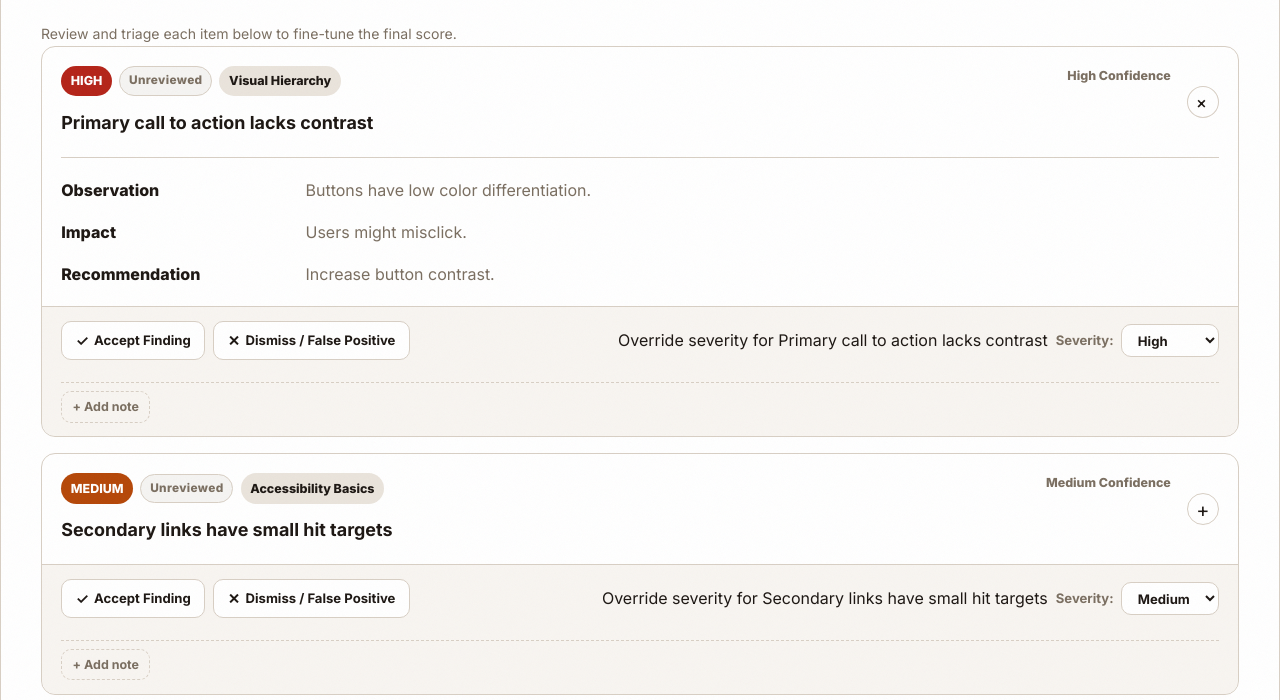
Test case: AuditResults HITL Review Experience › recalculates score and displays adjustment badge when a finding is dismissed
(page scrolled)
Note: Dismiss the high severity finding (f-1)
Click the button "✕ Dismiss / False Positive" below "Observation". click: x=312, y=341
box: [213,321,410,360]
(page scrolled)
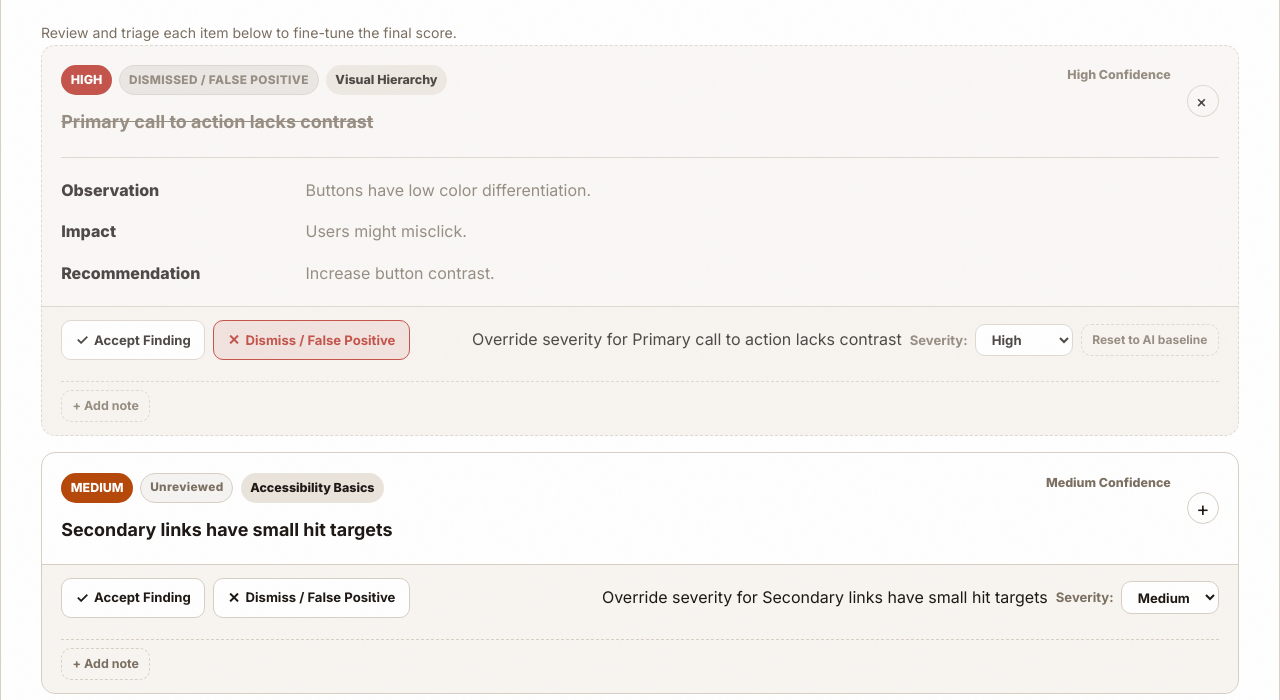
Expected: the text "Dismissed / False Positive" is shown, [119,65,319,95]
